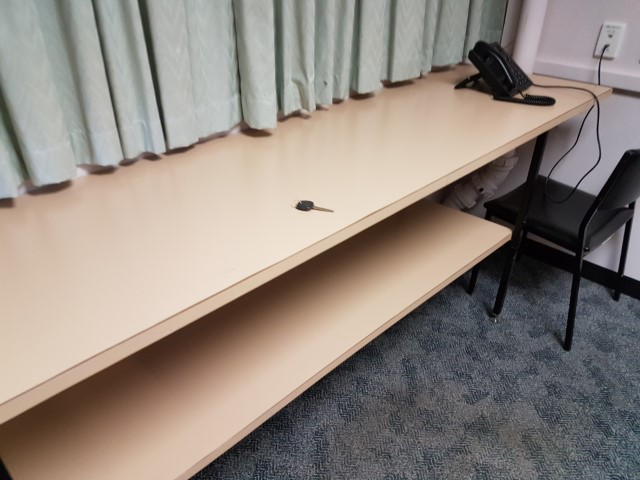key: (298, 200, 335, 215)
